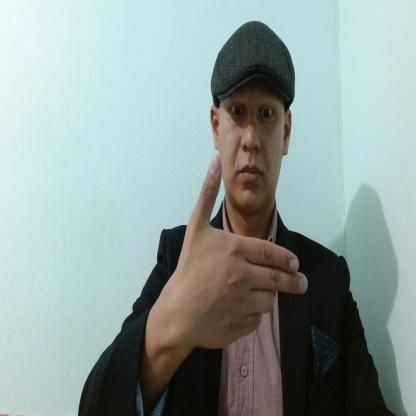H: (180, 154, 308, 350)
